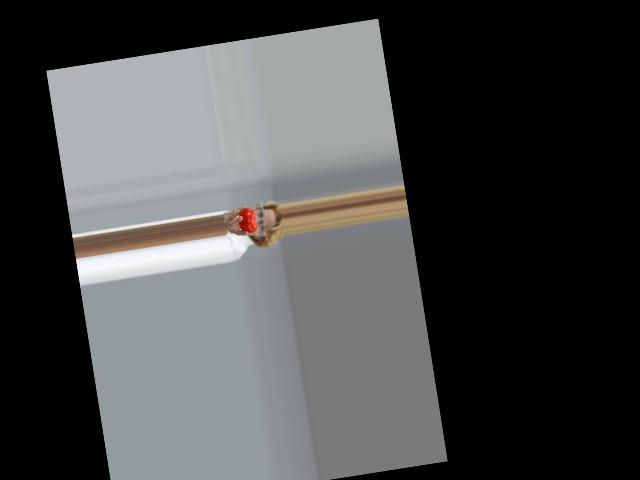tomato: (236, 207, 257, 235)
